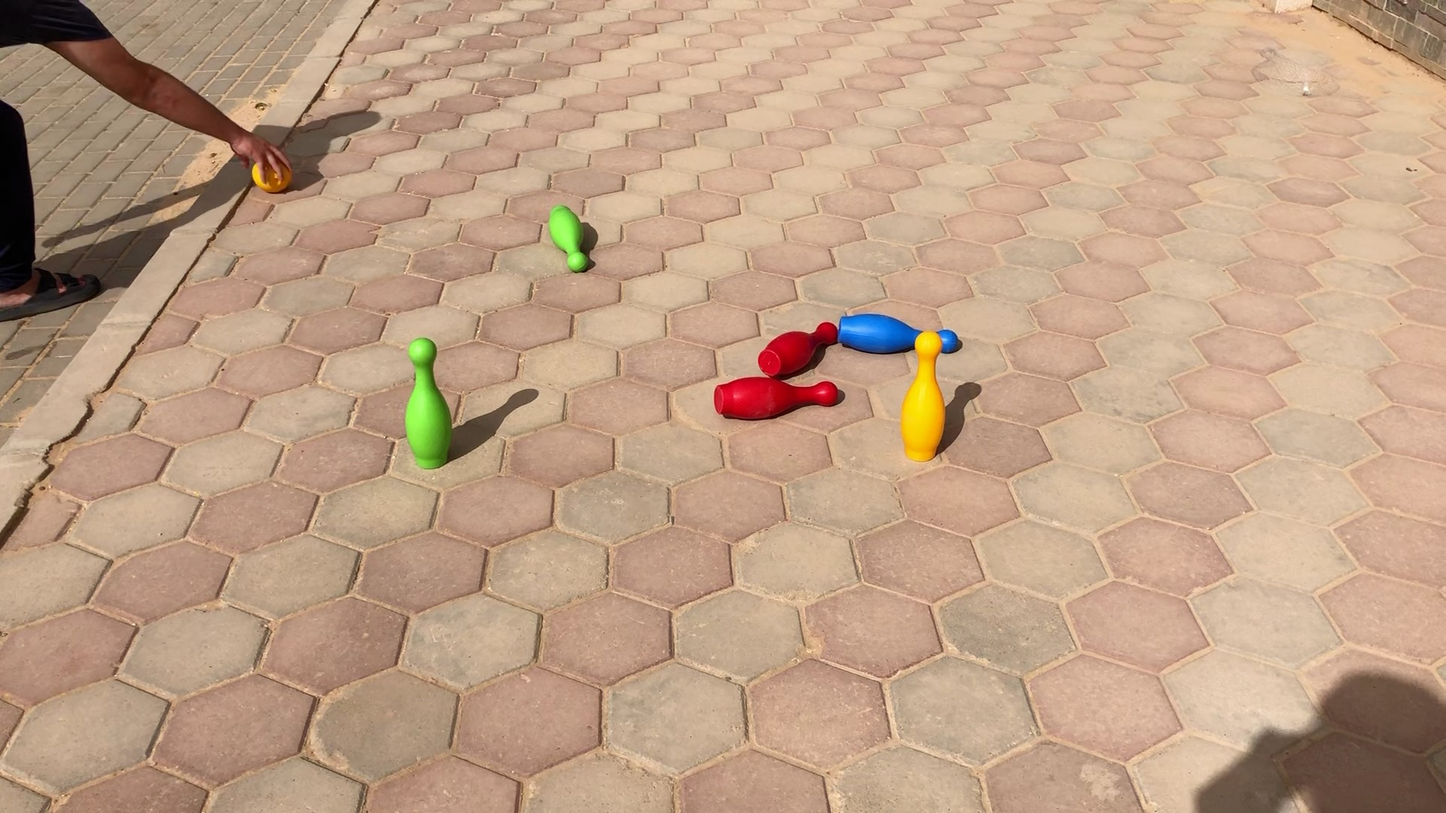bowling-pin: (834, 307, 963, 360), (902, 328, 953, 459), (404, 340, 451, 467), (712, 376, 840, 419), (756, 321, 831, 376), (548, 207, 592, 273)
